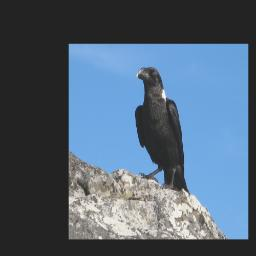Crow: (133, 64, 191, 197)
